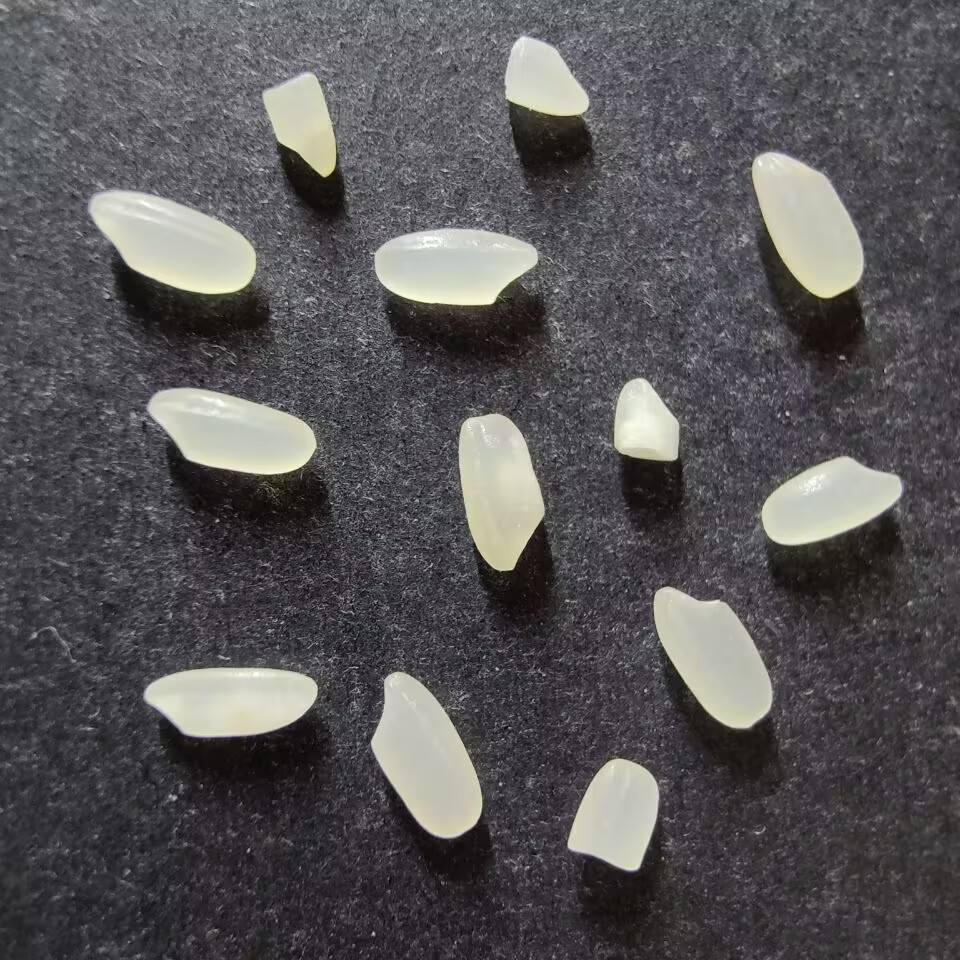broken: (566, 758, 659, 872), (261, 72, 336, 177), (503, 36, 589, 117), (613, 378, 680, 462)
rice: (369, 671, 482, 839), (88, 190, 255, 294), (652, 586, 772, 729), (751, 152, 864, 297), (147, 387, 316, 474), (457, 412, 545, 572), (760, 456, 903, 545), (373, 228, 538, 305), (143, 666, 317, 739)
